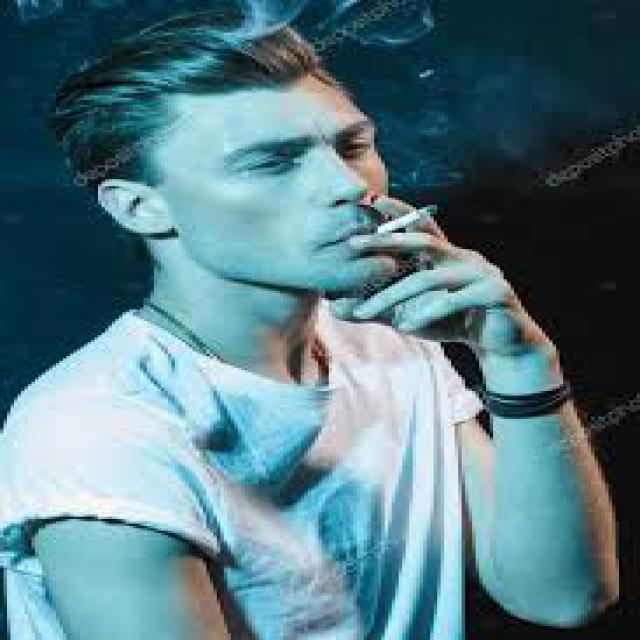smoking: (325, 184, 449, 255)
